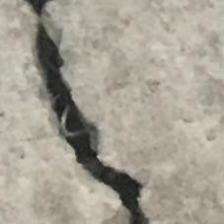Crack: (20, 5, 154, 224)
